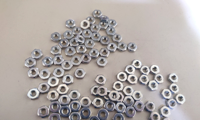nut: (49, 102, 62, 115), (38, 106, 50, 119), (28, 88, 40, 101), (47, 90, 60, 102), (69, 100, 82, 112), (60, 106, 72, 118), (57, 84, 69, 95), (74, 68, 86, 79), (96, 86, 108, 97), (135, 101, 146, 113), (161, 89, 173, 100), (168, 73, 180, 84), (38, 83, 51, 93), (69, 90, 82, 100), (96, 75, 107, 86), (28, 68, 39, 79), (109, 91, 120, 102), (54, 67, 65, 78), (160, 106, 171, 117), (145, 101, 156, 112), (132, 59, 143, 70), (65, 47, 76, 58), (80, 19, 91, 30), (48, 77, 60, 87), (59, 95, 71, 105), (80, 109, 92, 119), (25, 58, 37, 68), (115, 103, 127, 113), (113, 82, 125, 92), (116, 72, 128, 82), (126, 106, 136, 118), (167, 99, 179, 109), (175, 94, 187, 104), (169, 84, 181, 94), (96, 57, 108, 67), (63, 74, 74, 84), (93, 99, 104, 109), (40, 69, 51, 79), (149, 81, 159, 92), (125, 65, 136, 75), (32, 49, 43, 59), (51, 32, 61, 43), (62, 61, 73, 71), (81, 54, 92, 64), (99, 48, 110, 58), (100, 36, 111, 46), (85, 39, 96, 49), (64, 30, 75, 40), (127, 75, 139, 84), (53, 56, 65, 65), (71, 57, 83, 66), (149, 112, 162, 120), (81, 97, 91, 107), (133, 91, 143, 101), (140, 75, 150, 85), (124, 86, 134, 96), (42, 57, 52, 67), (59, 39, 69, 49), (128, 43, 138, 53), (118, 43, 128, 53), (98, 111, 109, 120), (104, 102, 115, 111), (154, 75, 165, 84), (51, 46, 62, 55), (93, 9, 104, 18), (70, 38, 81, 47), (92, 87, 102, 96), (103, 92, 113, 101), (115, 93, 125, 102), (112, 34, 122, 43), (91, 32, 101, 41), (83, 29, 93, 38), (90, 49, 100, 58), (86, 15, 95, 25), (106, 27, 117, 35), (65, 20, 76, 28), (152, 65, 161, 74), (100, 21, 109, 30), (78, 45, 87, 54), (108, 43, 118, 51), (49, 114, 62, 120), (69, 113, 80, 120), (113, 114, 125, 120), (109, 19, 118, 27), (91, 24, 99, 32), (142, 66, 151, 73), (126, 97, 133, 106), (75, 27, 82, 36), (78, 36, 85, 44), (89, 116, 100, 120), (162, 118, 174, 120)
